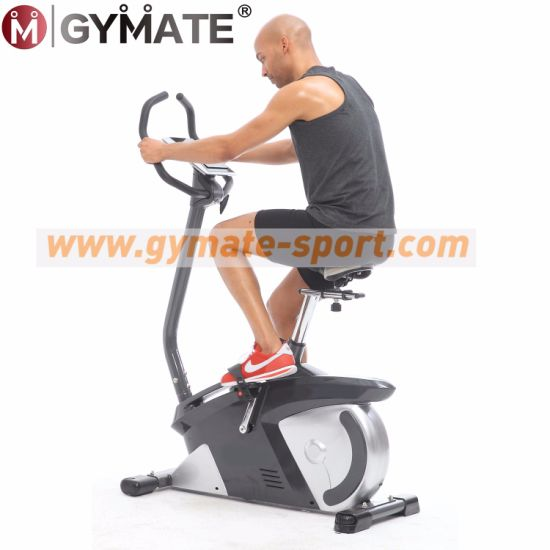gym_bike: (108, 95, 436, 522)
